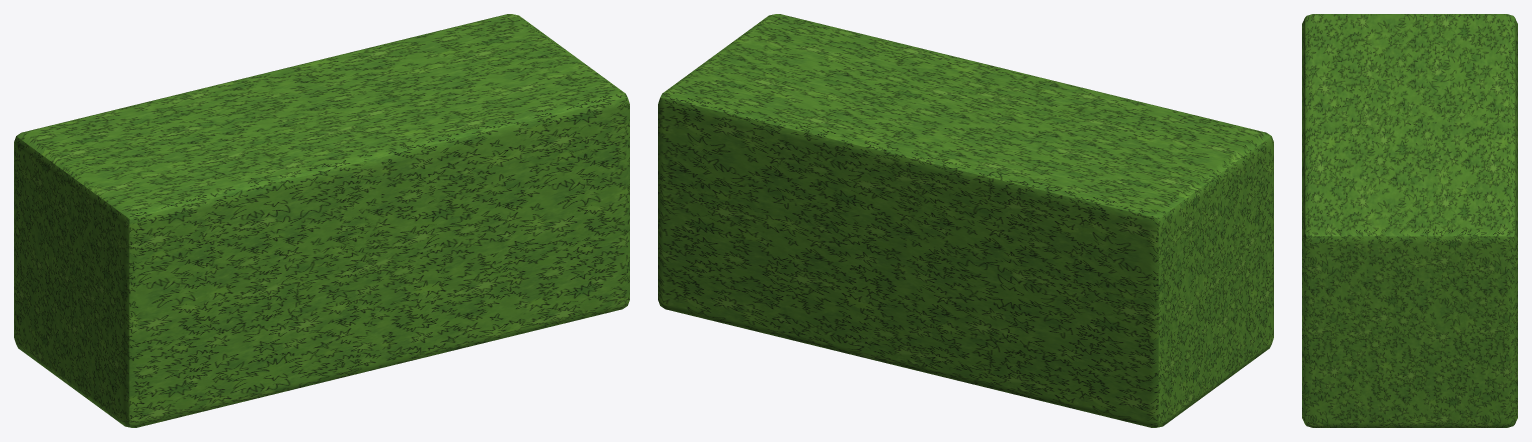
The model's file is Arbusto.fbx.
The picture shows the model from 3 angles, left to right: view 1: azimuth 30°, elevation 25°; view 2: azimuth 150°, elevation 25°; view 3: azimuth 270°, elevation 25°; orthographic projection. The views are drawn at different scales.
Parts seen in each view (by area): view 1: pCube81; view 2: pCube81; view 3: pCube81.
Part boxes in pixels (x1,y1,x2,y2): pCube81: (14, 14, 629, 427); pCube81: (658, 14, 1273, 427); pCube81: (1302, 14, 1517, 427).
Size of the model in its own units: 1.13 by 0.4639 by 0.4597.
